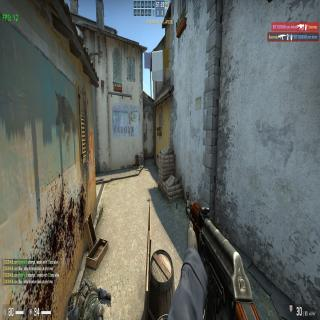CT-Head: (160, 149, 162, 154)
